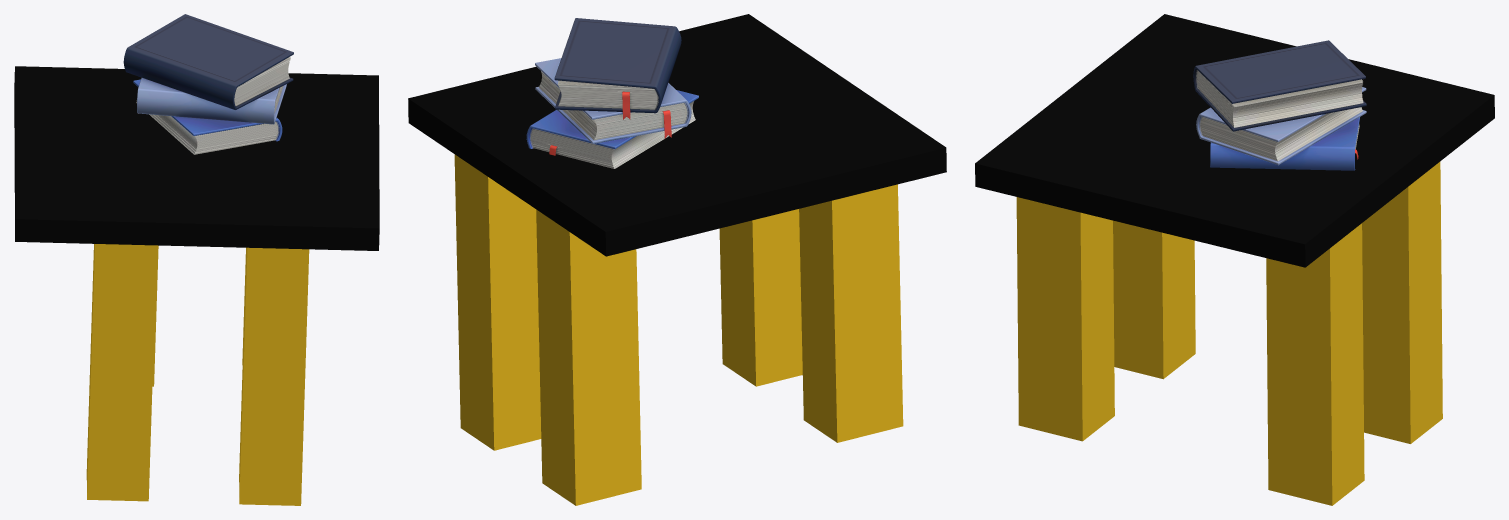
File: tableWithBooks.fbx
3 views of the same model, side by side, from view 1: azimuth 30°, elevation 25°; view 2: azimuth 150°, elevation 25°; view 3: azimuth 270°, elevation 25° (orthographic). The views are drawn at different scales.
Visible parts, largest first — view 1: node_id177, node_id175, node_id180, node_id183; view 2: node_id177, node_id189, node_id183, node_id186, node_id175, node_id180; view 3: node_id177, node_id186, node_id180, node_id189, node_id175, node_id183.
Part boxes in pixels (x1=…): node_id177: x1=14, y1=66, x2=379, y2=250; node_id175: x1=123, y1=14, x2=293, y2=154; node_id180: x1=239, y1=247, x2=309, y2=505; node_id183: x1=86, y1=244, x2=156, y2=501; node_id177: x1=408, y1=14, x2=946, y2=256; node_id189: x1=536, y1=209, x2=641, y2=505; node_id183: x1=799, y1=184, x2=903, y2=442; node_id186: x1=454, y1=154, x2=541, y2=450; node_id175: x1=526, y1=18, x2=698, y2=168; node_id180: x1=719, y1=209, x2=802, y2=386; node_id177: x1=975, y1=14, x2=1494, y2=267; node_id186: x1=1266, y1=223, x2=1364, y2=505; node_id180: x1=1016, y1=197, x2=1114, y2=441; node_id189: x1=1362, y1=162, x2=1442, y2=443; node_id175: x1=1193, y1=40, x2=1366, y2=170; node_id183: x1=1113, y1=220, x2=1195, y2=379.
Size of the model in its own units: 0.512 by 0.4096 by 0.5117.
Materials: 6 (6 with a texture image).
